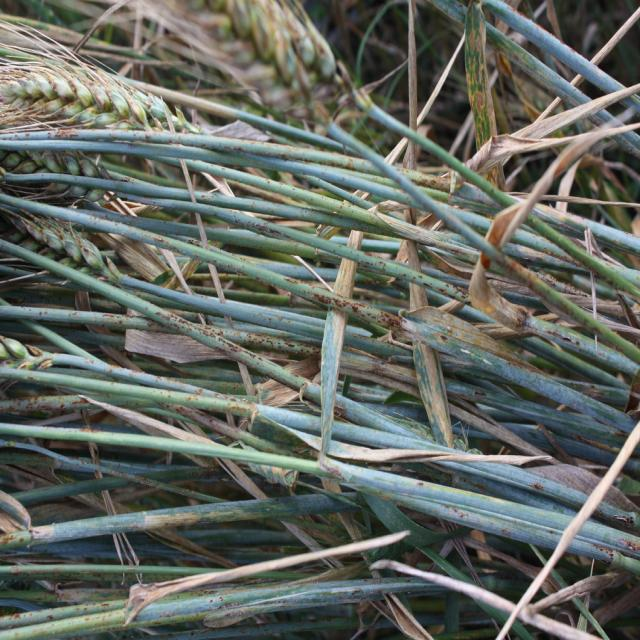wheat-stemrust: (192, 245, 448, 352), (122, 299, 323, 406), (310, 236, 471, 306), (97, 363, 257, 420), (210, 205, 296, 240)
